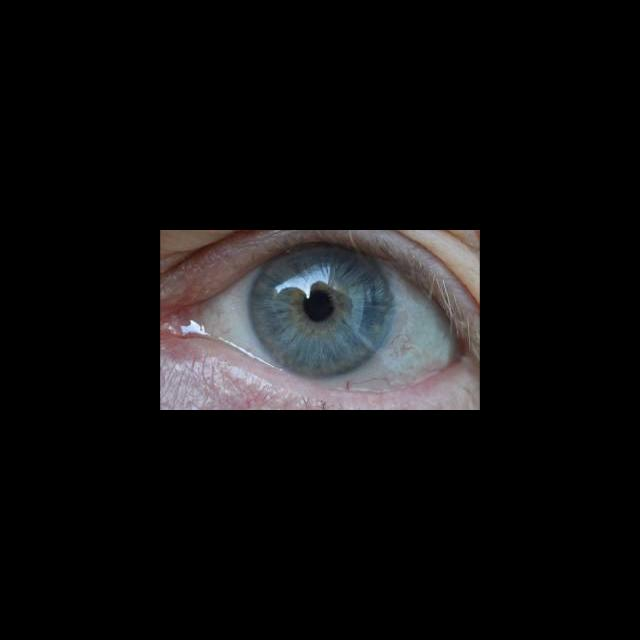eye: (216, 239, 452, 394)
iris: (250, 245, 392, 379)
